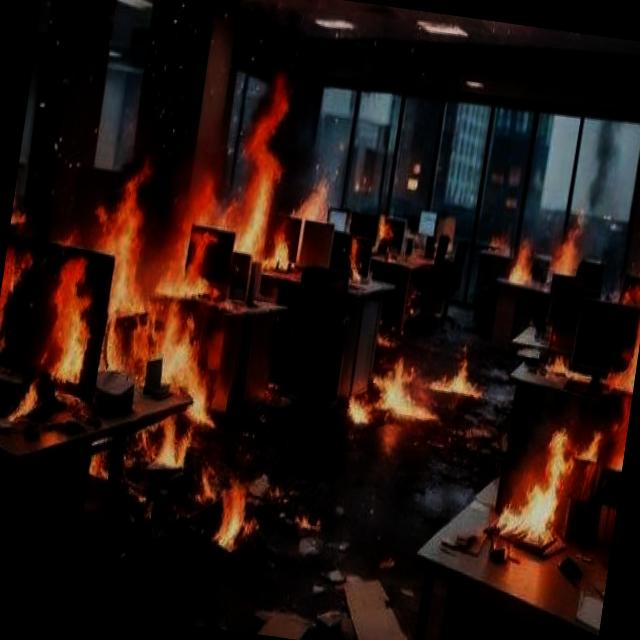Fire_Dangerous: (31, 81, 312, 466), (323, 314, 478, 454), (488, 416, 590, 558), (188, 463, 264, 548), (599, 326, 640, 471), (281, 180, 342, 268), (544, 222, 582, 280), (516, 246, 540, 296), (375, 212, 400, 242), (489, 233, 514, 262), (346, 242, 365, 276)
